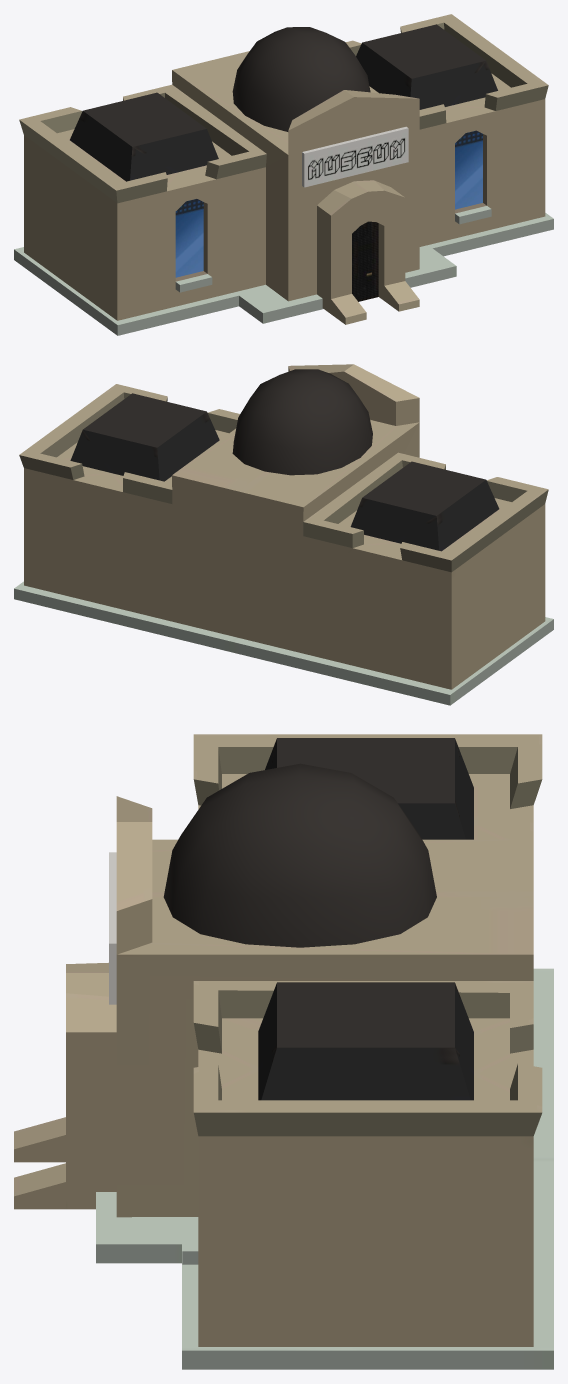
Rendered from university_2.glb.
3 views of the same model, one above another, from view 1: azimuth 30°, elevation 25°; view 2: azimuth 150°, elevation 25°; view 3: azimuth 270°, elevation 25° (orthographic). The views are drawn at different scales.
Parts seen in each view (by area): view 1: Museum; view 2: Museum; view 3: Museum.
Boxes of the visible parts, bbox=[...] form: Museum: bbox=[14, 14, 553, 335]; Museum: bbox=[14, 364, 553, 705]; Museum: bbox=[14, 734, 553, 1369].
Size of the model in its own units: 1.02 by 0.5013 by 0.6085.
1 material, 1 textured.
